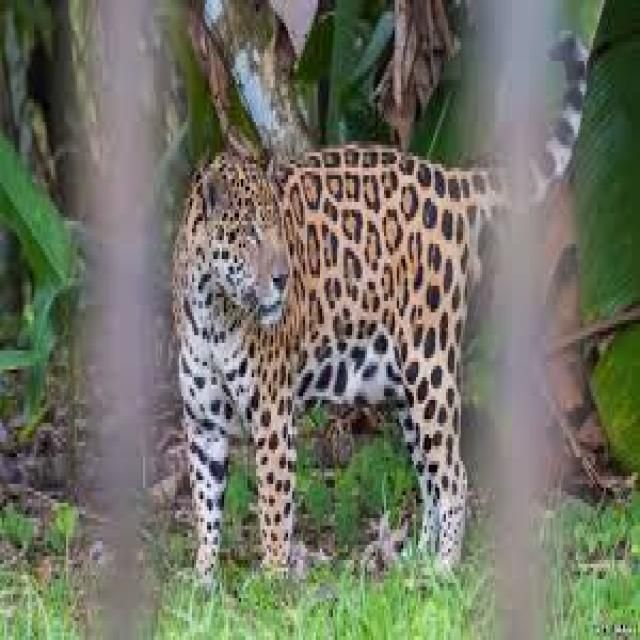Jaguar: (173, 34, 589, 594)
